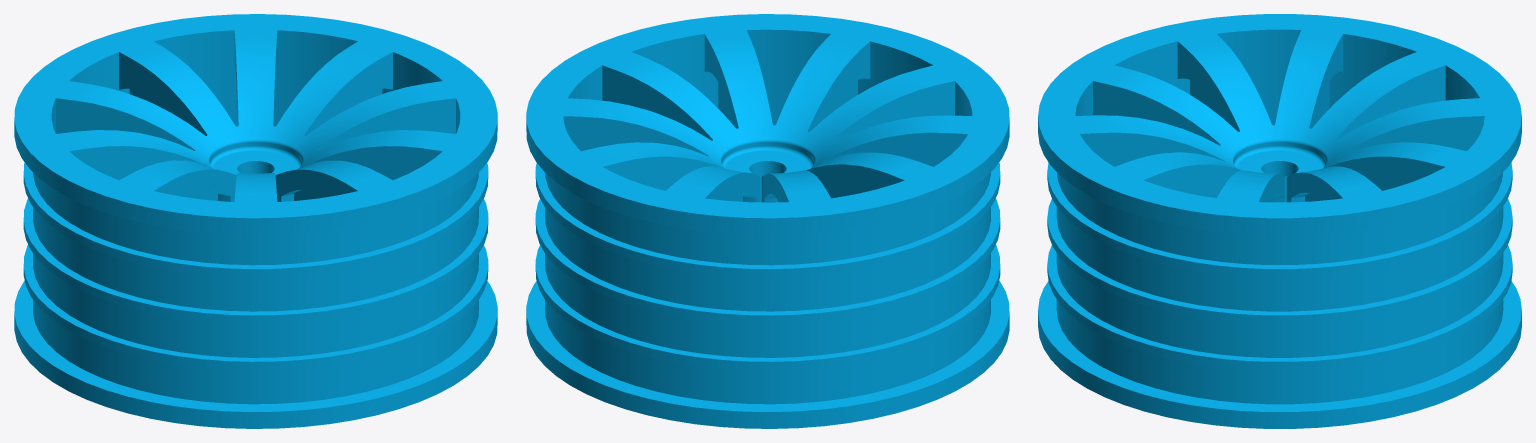
The model's file is rim_l.gltf.
3 renders of one model, left to right at view 1: azimuth 30°, elevation 25°; view 2: azimuth 150°, elevation 25°; view 3: azimuth 270°, elevation 25°, orthographic.
Visible parts, largest first — view 1: rim_l; view 2: rim_l; view 3: rim_l.
Boxes of the visible parts, x1,y1,x2,y2 form: rim_l: (14,14,497,428); rim_l: (526,14,1009,428); rim_l: (1038,14,1521,428).
Bounding box in the file's own units: 0.0519 × 0.025 × 0.052.
